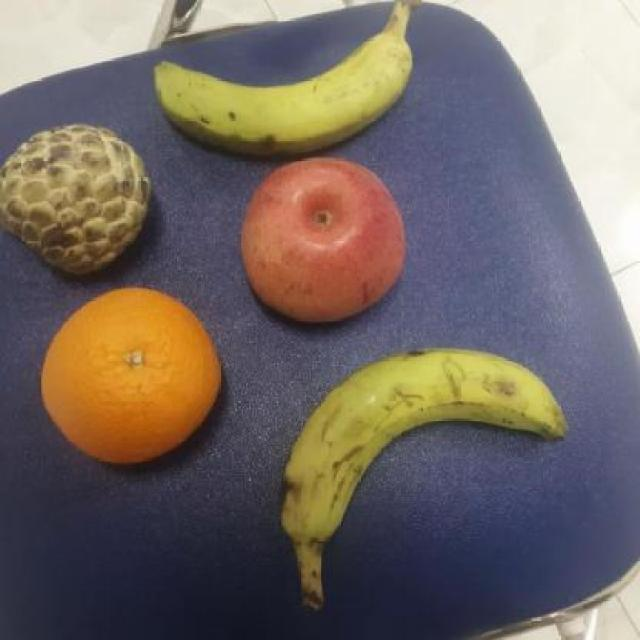apple: (242, 157, 406, 323)
banana: (275, 345, 570, 609), (153, 0, 427, 155)
oren: (40, 287, 223, 461)
sugar apple: (0, 119, 152, 275)
